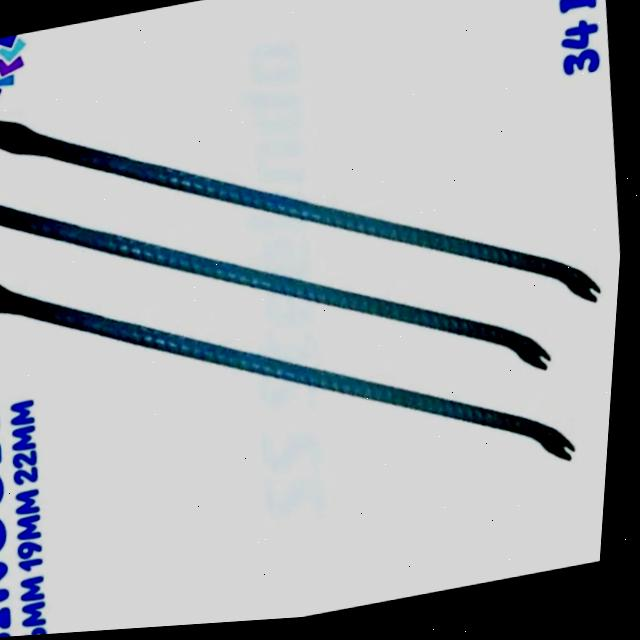crow bar: (0, 111, 612, 316), (0, 275, 593, 471), (0, 191, 571, 380)
